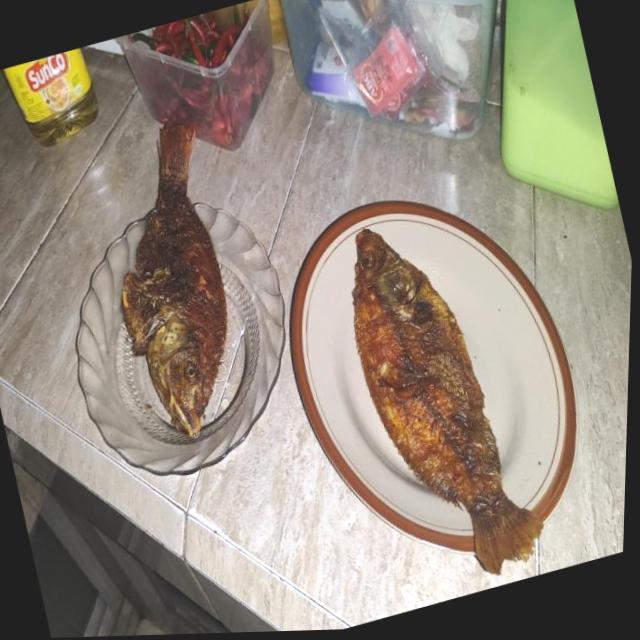ikan_mujair: (351, 228, 540, 572), (122, 124, 227, 436)
